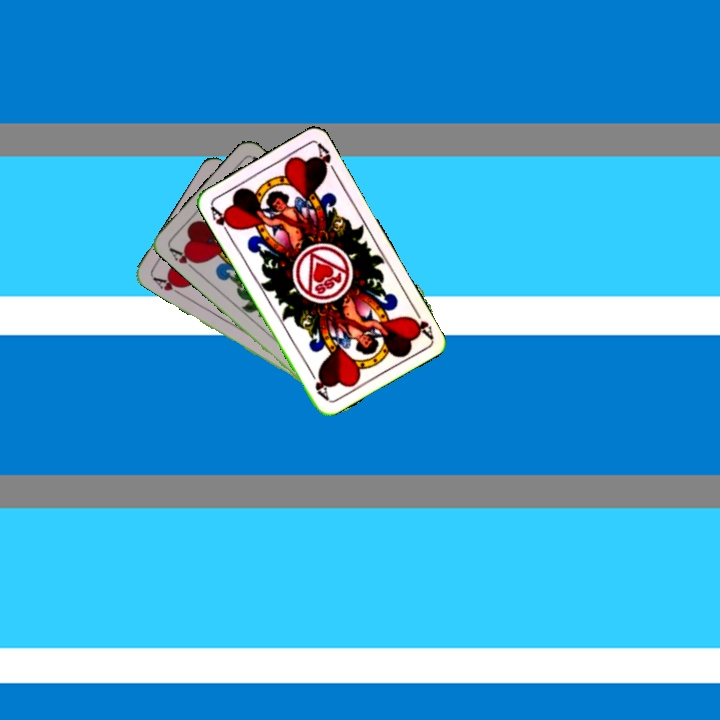HA: (403, 303, 436, 341), (165, 243, 201, 274), (206, 202, 236, 239), (148, 273, 187, 298)
